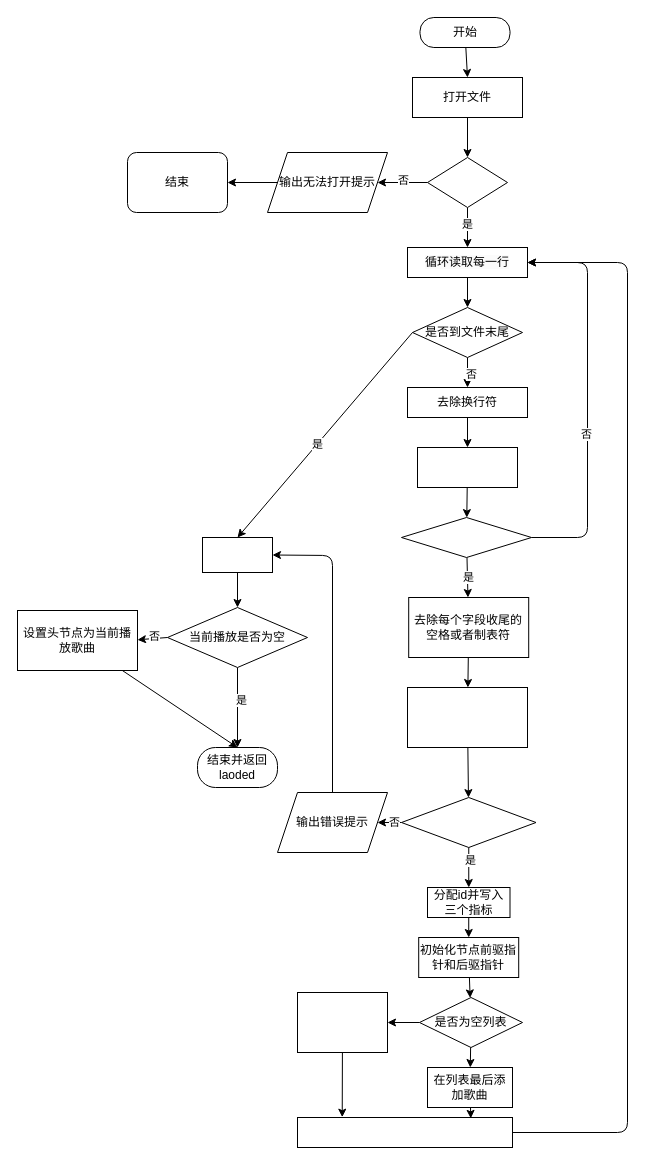
Some shapes in this 653 by 1165 pixel diagram are drawn without their labels. Here are the shapes that lost their labels. From the top down, the box of each, then its label:
(426, 156, 508, 208): 是否打开
(416, 446, 518, 488): 分割内容
(202, 536, 272, 572): 关闭文件
(400, 516, 532, 558): 三个值均非空
(406, 686, 528, 748): 创建新节点
(400, 796, 536, 848): 创建节点是否成功
(296, 992, 388, 1052): head和tail都指向新歌曲
(296, 1116, 512, 1148): 增加歌曲数量
